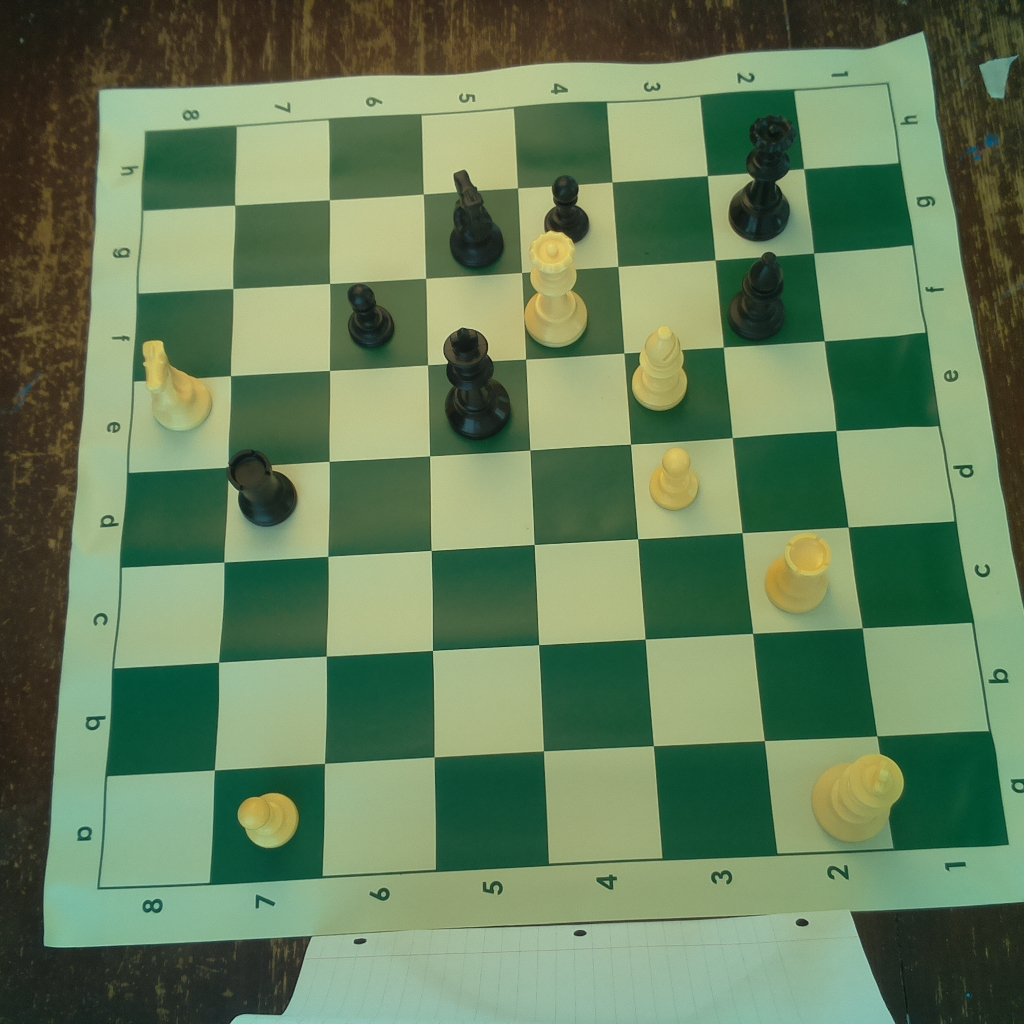black_bishop: (728, 251, 792, 349)
black_king: (438, 321, 515, 438)
black_knight: (442, 167, 510, 267)
black_pawn: (341, 279, 398, 351), (545, 171, 594, 243)
black_queen: (731, 112, 793, 244)
black_rook: (225, 445, 301, 532)
file_a: (98, 732, 1010, 893)
file_b: (107, 619, 994, 778)
file_c: (111, 525, 976, 669)
file_d: (119, 425, 959, 571)
file_e: (125, 332, 942, 474)
file_f: (133, 245, 929, 380)
file_g: (134, 161, 912, 293)
file_h: (141, 84, 902, 212)
outline: (98, 84, 1012, 893)
rank_1: (788, 80, 1008, 856)
rank_2: (697, 88, 892, 857)
rank_3: (606, 92, 780, 862)
rank_4: (512, 99, 666, 867)
rank_5: (420, 106, 551, 871)
rank_6: (321, 113, 438, 880)
rank_7: (210, 118, 333, 892)
rank_8: (98, 126, 233, 895)
white_bishop: (628, 326, 693, 415)
white_king: (812, 748, 906, 841)
white_knight: (136, 327, 219, 432)
white_pawn: (236, 783, 306, 851), (645, 441, 702, 513)
white_queen: (521, 228, 590, 353)
white_rook: (763, 528, 838, 617)
